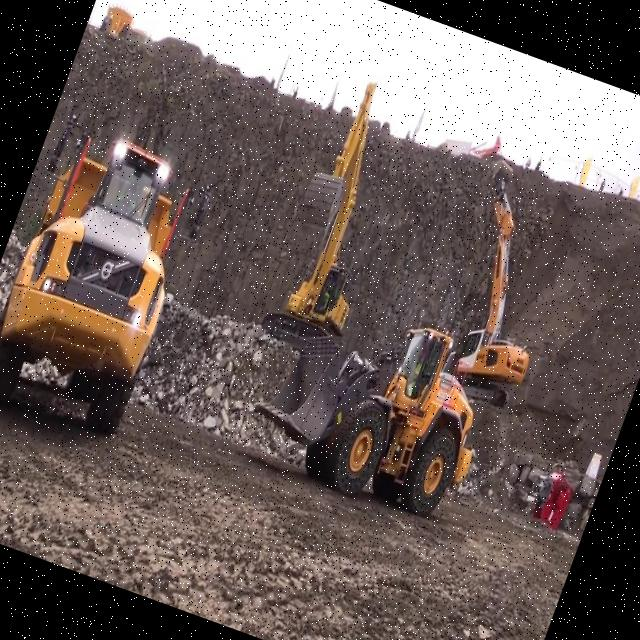Dump Truck: (0, 119, 212, 454)
Excavator: (258, 74, 426, 354), (418, 155, 594, 410)
Loader: (250, 284, 512, 526)
